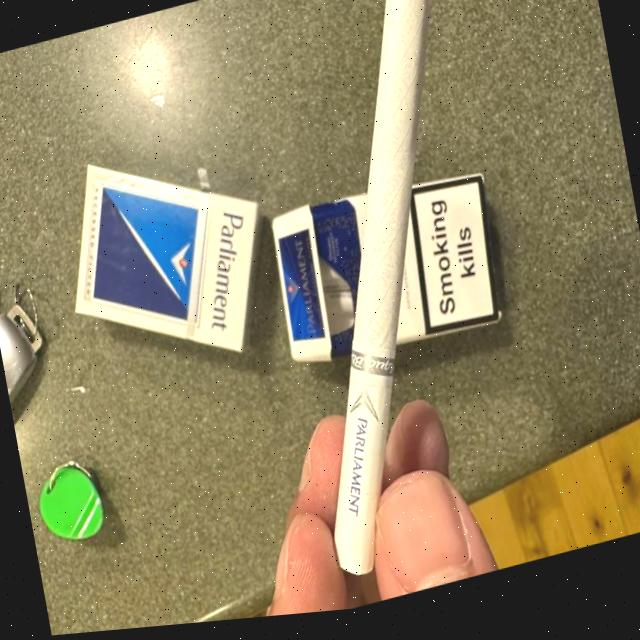cigarette: (334, 0, 429, 576)
